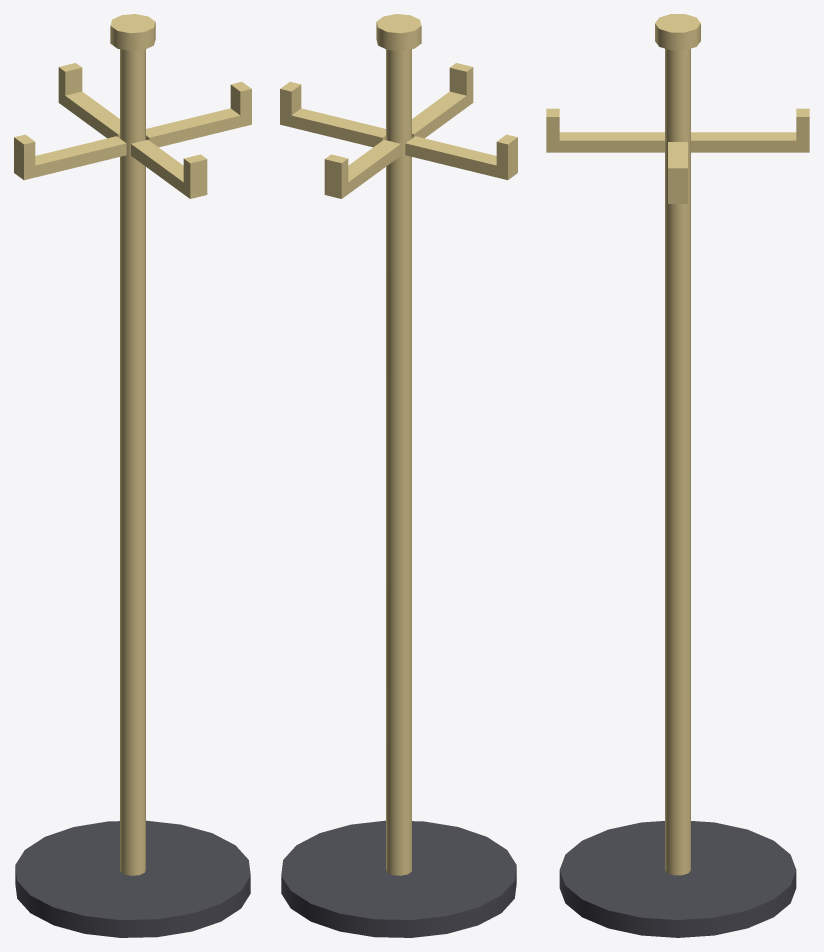
Rendered from bb_set_coatrack.fbx.
3 renders of one model, left to right at view 1: azimuth 30°, elevation 25°; view 2: azimuth 150°, elevation 25°; view 3: azimuth 270°, elevation 25°, orthographic.
Parts seen in each view (by area): view 1: bb_set_coatrack; view 2: bb_set_coatrack; view 3: bb_set_coatrack.
Part boxes in pixels (<box>): bb_set_coatrack: <box>14,14,251,937</box>; bb_set_coatrack: <box>280,14,517,937</box>; bb_set_coatrack: <box>546,14,809,937</box>.
Bounding box in the file's own units: 0.4 × 1.45 × 0.4.
